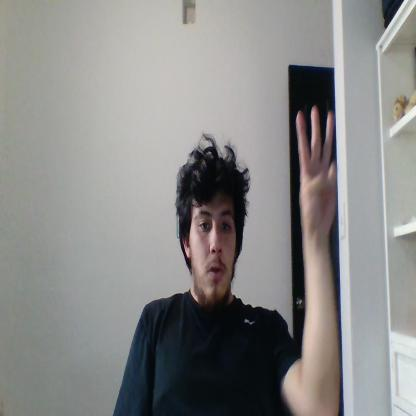W: (296, 105, 338, 233)
